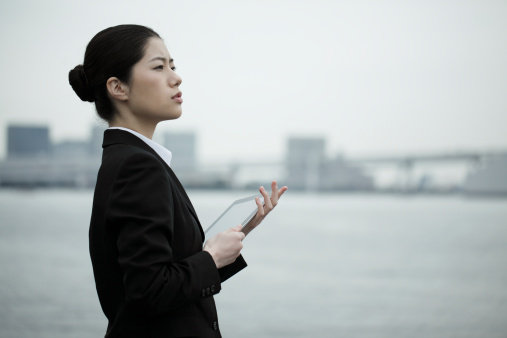em pe: (54, 15, 279, 338)
